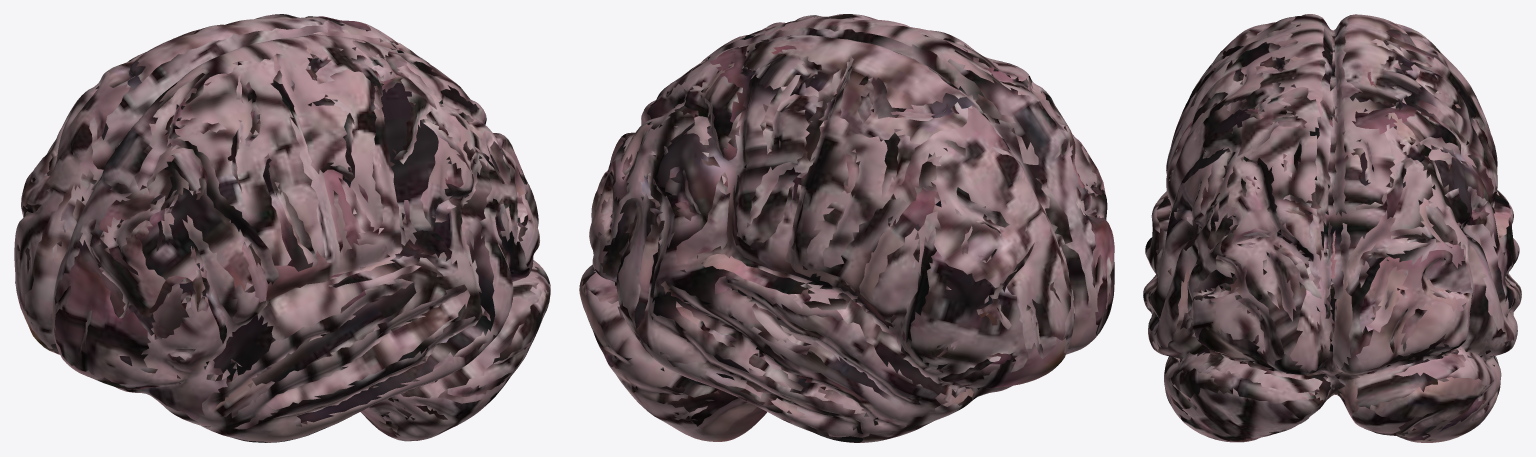
Rendered from Brain3.glb.
The picture shows the model from 3 angles, left to right: view 1: azimuth 30°, elevation 25°; view 2: azimuth 150°, elevation 25°; view 3: azimuth 270°, elevation 25°; orthographic projection. The views are drawn at different scales.
Parts seen in each view (by area): view 1: Brain; view 2: Brain; view 3: Brain.
Boxes of the visible parts, <box> form: Brain: <box>14,14,550,442</box>; Brain: <box>579,14,1114,442</box>; Brain: <box>1143,14,1521,442</box>.
Size of the model in its own units: 1.6 by 1.24 by 1.21.
1 material, 1 textured.
